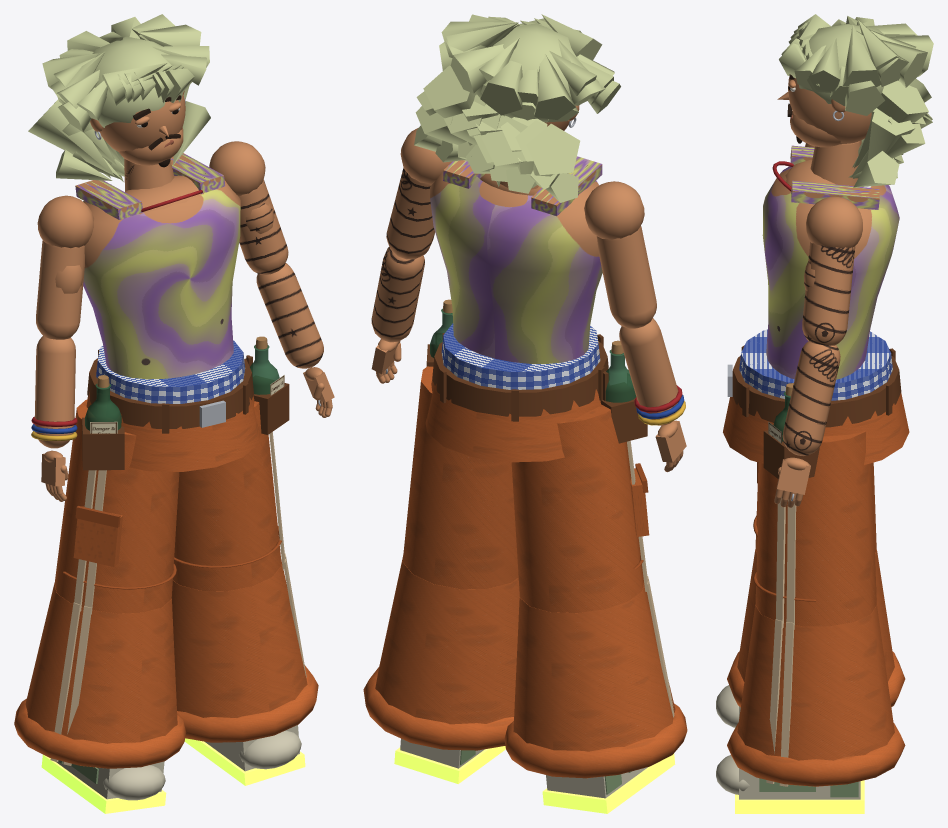
Rendered from gimlet.glb.
3 renders of one model, left to right at view 1: azimuth 30°, elevation 25°; view 2: azimuth 150°, elevation 25°; view 3: azimuth 270°, elevation 25°, orthographic. The views are drawn at different scales.
Parts seen in each view (by area): view 1: spine, knee_R, knee_L, head, thigh_R, hips, thigh_L, shoulder_R, shoulder_L, elbow_R, elbow_L, object 2 (+1 smaller); view 2: knee_R, spine, head, knee_L, thigh_R, hips, thigh_L, shoulder_R, elbow_R, shoulder_L, elbow_L, object 2; view 3: knee_L, head, thigh_L, spine, hips, shoulder_L, elbow_L, knee_R, thigh_R.
Part boxes in pixels (x1,y1,x2,y2): spine: [75, 153, 240, 379]; knee_R: [14, 583, 186, 813]; knee_L: [171, 553, 318, 785]; head: [28, 14, 210, 181]; thigh_R: [54, 399, 179, 614]; hips: [82, 340, 289, 471]; thigh_L: [173, 401, 285, 591]; shoulder_R: [36, 195, 93, 339]; shoulder_L: [209, 141, 288, 274]; elbow_R: [31, 336, 77, 486]; elbow_L: [256, 263, 334, 402]; object 2: [85, 384, 121, 430]; knee_R: [504, 576, 687, 813]; spine: [430, 156, 602, 363]; head: [414, 14, 620, 202]; knee_L: [363, 555, 519, 783]; thigh_R: [511, 404, 649, 612]; hips: [425, 323, 647, 462]; thigh_L: [402, 366, 518, 589]; shoulder_R: [584, 181, 656, 328]; elbow_R: [619, 318, 686, 462]; shoulder_L: [386, 128, 452, 259]; elbow_L: [371, 247, 424, 374]; object 2: [605, 349, 636, 402]; knee_L: [716, 605, 905, 813]; head: [777, 14, 933, 187]; thigh_L: [753, 431, 876, 629]; spine: [762, 140, 899, 379]; hips: [723, 329, 909, 478]; shoulder_L: [802, 196, 862, 345]; elbow_L: [776, 341, 840, 494]; knee_R: [716, 550, 905, 727]; thigh_R: [753, 462, 876, 552].
Bounding box in the file's own units: 0.8467 × 2.02 × 0.5364.
27 materials, 6 textured.
